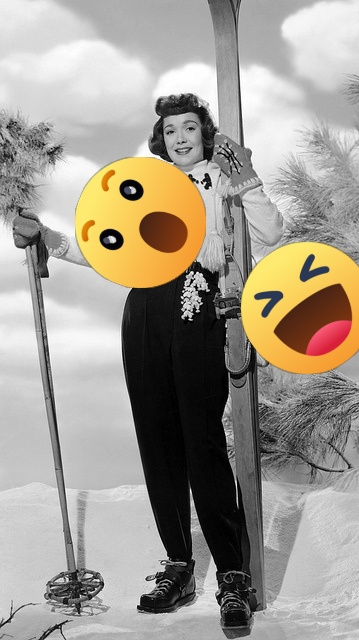haha: (241, 242, 359, 374)
wow: (75, 157, 206, 288)
